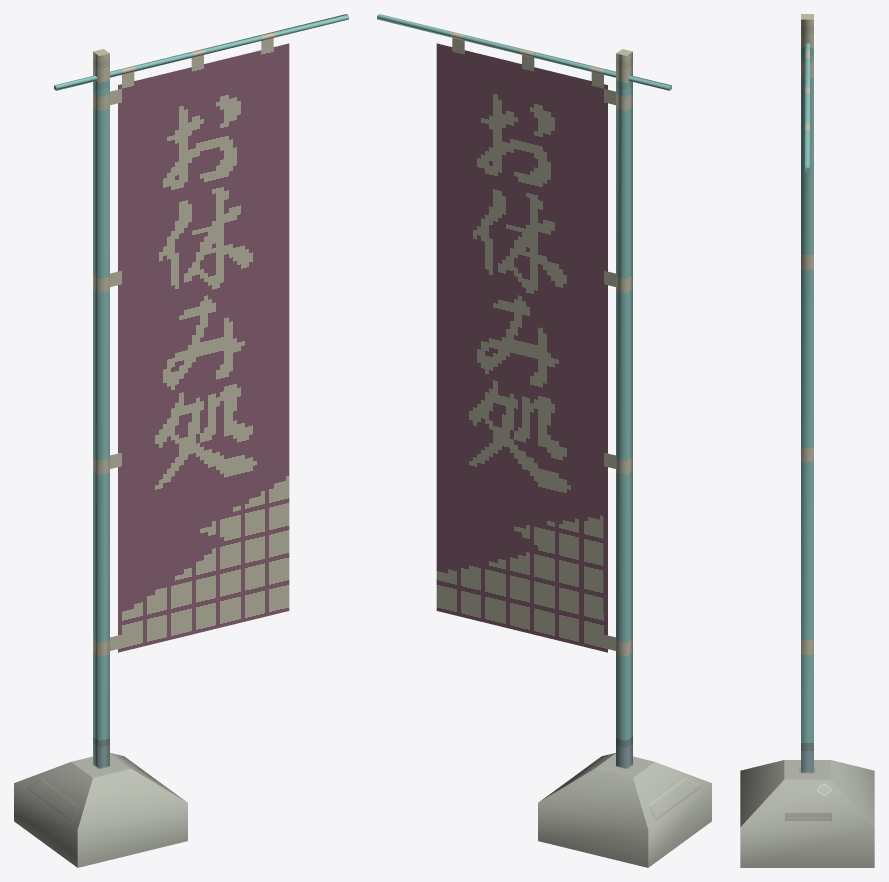
File: 03a5_Teahouse_Banner.glb
The picture shows the model from 3 angles, left to right: view 1: azimuth 30°, elevation 25°; view 2: azimuth 150°, elevation 25°; view 3: azimuth 270°, elevation 25°; orthographic projection. The views are drawn at different scales.
Visible parts, largest first — view 1: part_0; view 2: part_0; view 3: part_0.
Part boxes in pixels (x1=…): part_0: x1=14, y1=14, x2=348, y2=867; part_0: x1=377, y1=14, x2=711, y2=867; part_0: x1=740, y1=14, x2=874, y2=867.
Bounding box in the file's own units: 0.9577 × 2.36 × 0.35.
1 material, 1 textured.
